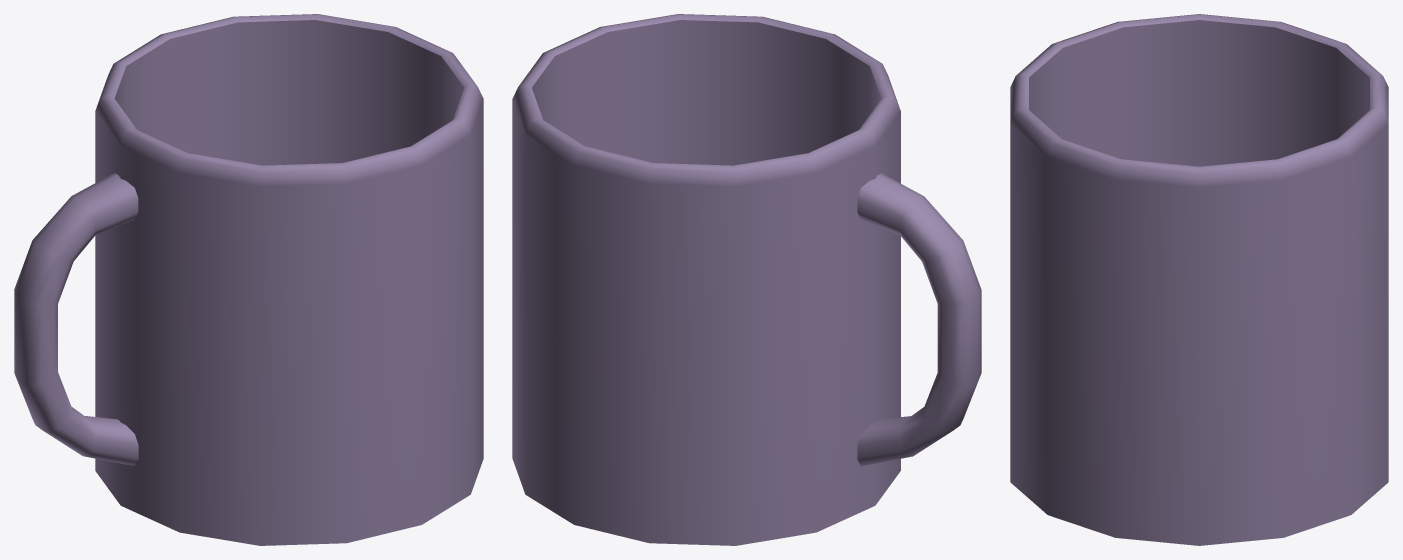
File: Taza.fbx
The picture shows the model from 3 angles, left to right: view 1: azimuth 30°, elevation 25°; view 2: azimuth 150°, elevation 25°; view 3: azimuth 270°, elevation 25°; orthographic projection.
Parts seen in each view (by area): view 1: Taza; view 2: Taza; view 3: Taza.
Boxes of the visible parts, bbox=[...] form: Taza: bbox=[14, 14, 483, 545]; Taza: bbox=[512, 14, 981, 545]; Taza: bbox=[1010, 14, 1388, 545].
Size of the model in its own units: 0.1078 by 0.0882 by 0.0811.
